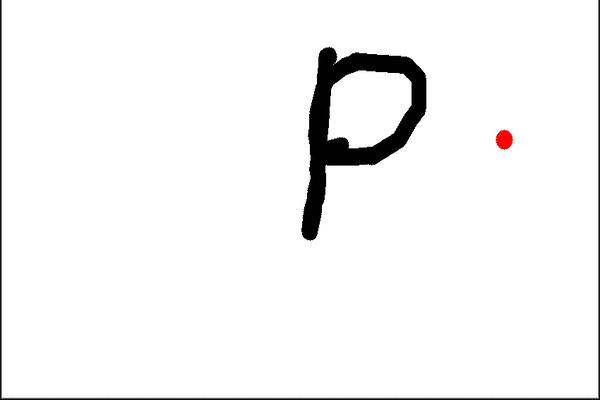P: (289, 36, 428, 245)
